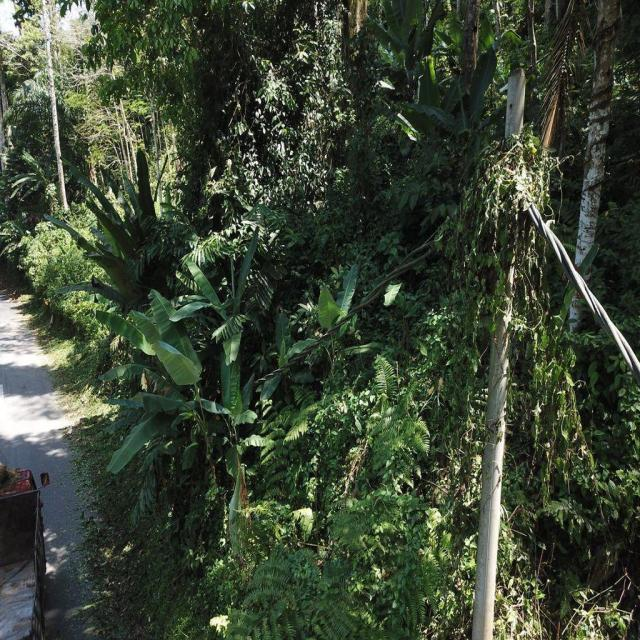critical vegetation: (453, 116, 568, 488)
